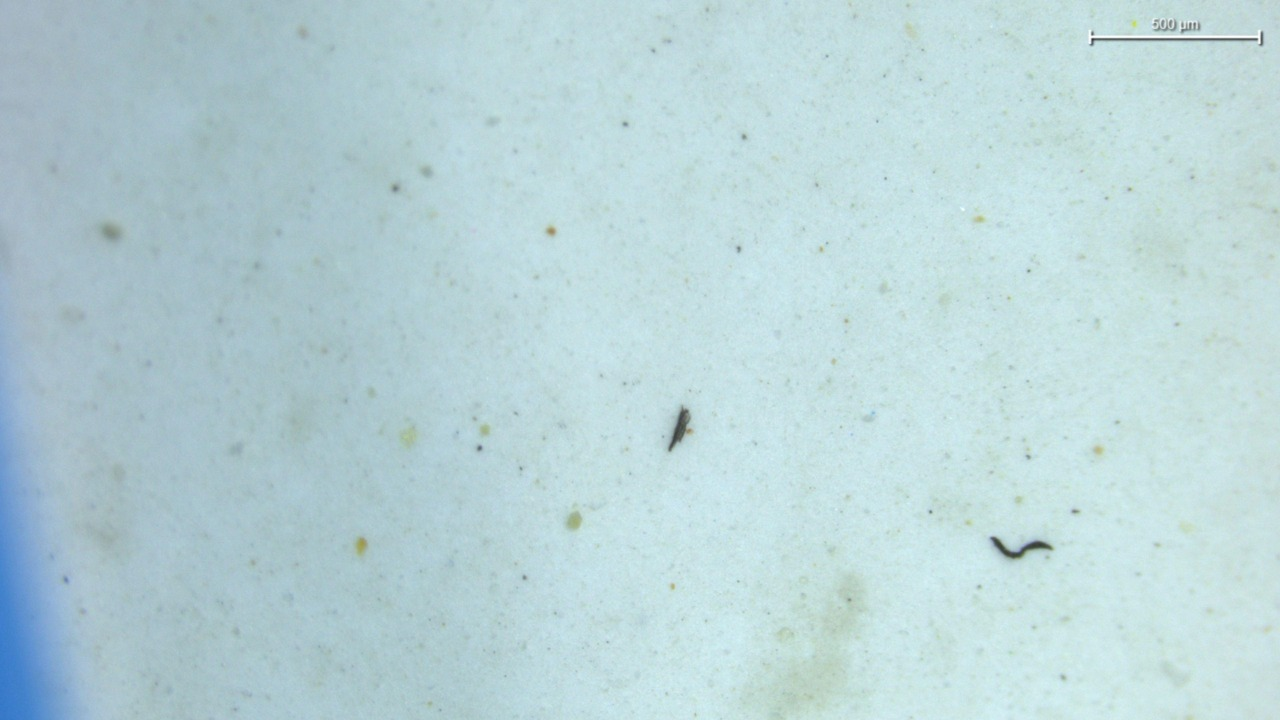microplastic_fragment: (667, 406, 690, 450)
